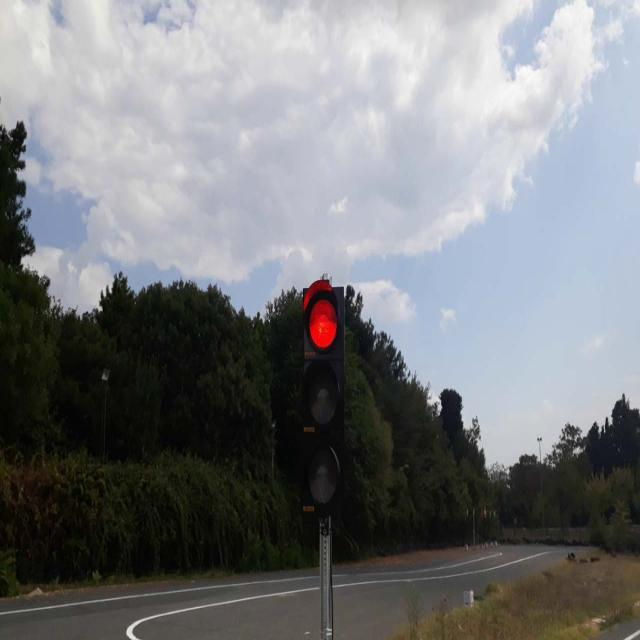kirmizi: (306, 282, 349, 516)
